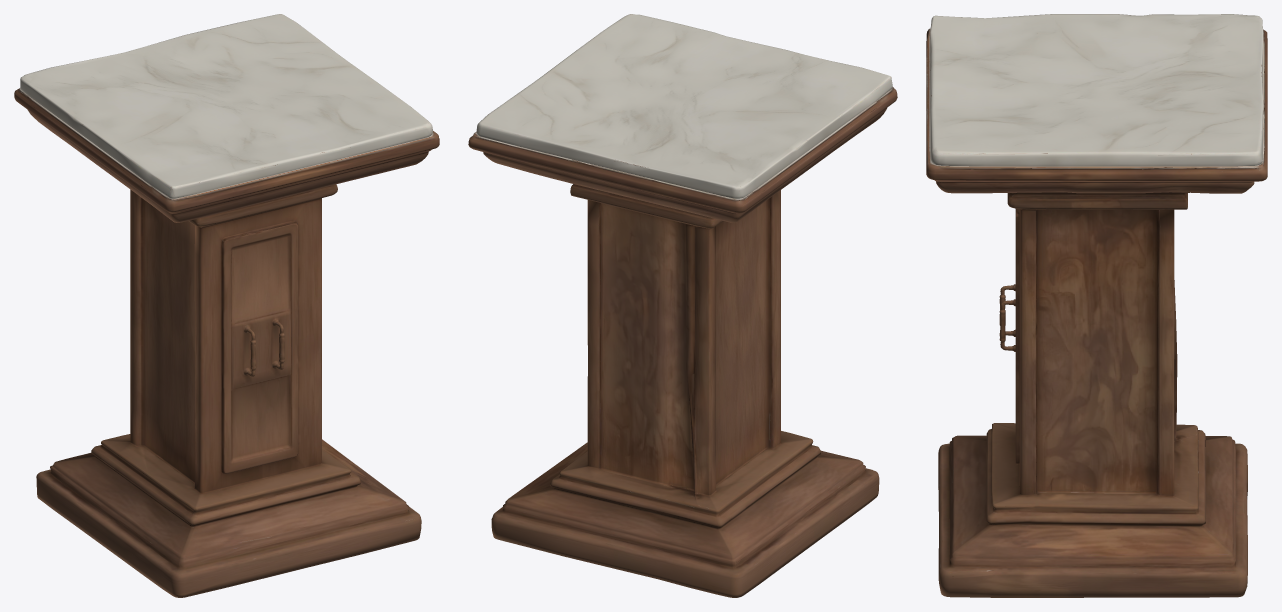
The model's file is bell-pedestal.glb.
The picture shows the model from 3 angles, left to right: view 1: azimuth 30°, elevation 25°; view 2: azimuth 150°, elevation 25°; view 3: azimuth 270°, elevation 25°; orthographic projection. The views are drawn at different scales.
Visible parts, largest first — view 1: tripo_node_582737f6-957e-41eb-be59-cf640b386611; view 2: tripo_node_582737f6-957e-41eb-be59-cf640b386611; view 3: tripo_node_582737f6-957e-41eb-be59-cf640b386611.
Boxes of the visible parts, x1,y1,x2,y2 form: tripo_node_582737f6-957e-41eb-be59-cf640b386611: (14, 14, 439, 597); tripo_node_582737f6-957e-41eb-be59-cf640b386611: (468, 14, 897, 597); tripo_node_582737f6-957e-41eb-be59-cf640b386611: (926, 14, 1267, 597).
Bounding box in the file's own units: 0.689 × 0.9995 × 0.6899.
Materials: 1 (1 with a texture image).
